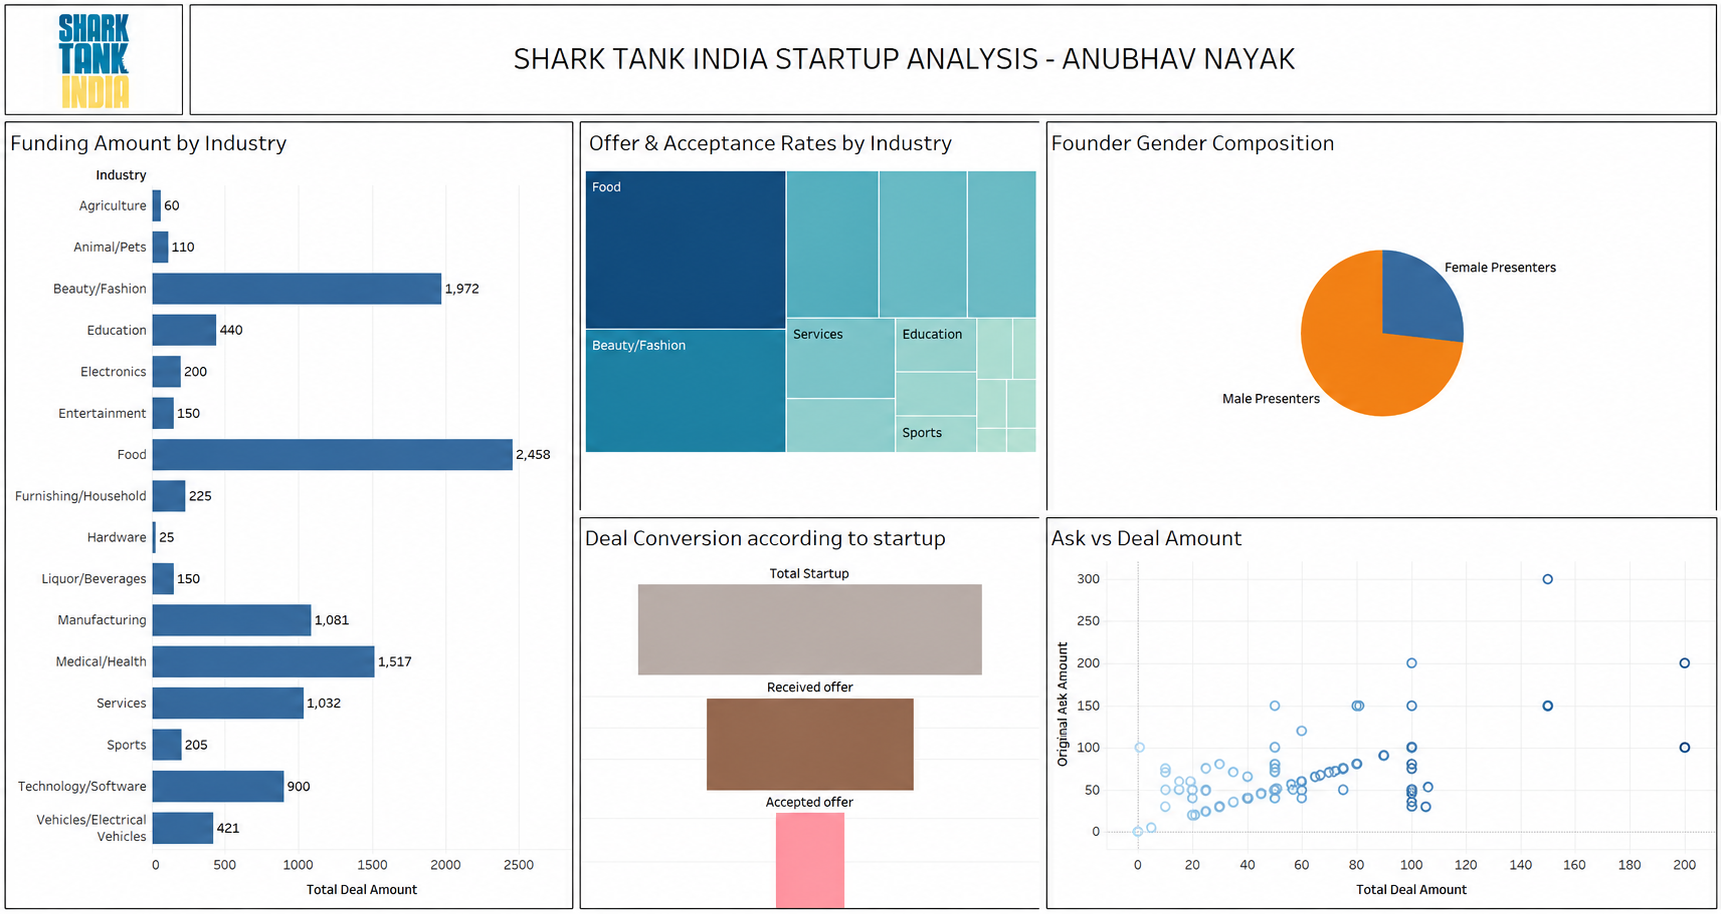

What the dashboard file says about the page in this screenshot:
{"tool":"tableau","page":{"name":"SHARK TANK","canvas":[1000,1000],"units":"permille","ordinal":0},"visuals":[{"type":"image","param":"C:/Users/Abhijeet Kuanr/Downloads/Elevate Labs/Projects/P-1/Shark_Tank_India.jpg","box":[4.8,9.7,105.4,127.1]},{"type":"text","box":[110.2,9.7,885.1,127.1]},{"type":"worksheet","title":"Funding Amount by Industry","mark":"Automatic","rows":["Industry"],"cols":["Total Deal Amount"],"box":[4.8,136.8,330.1,853.5]},{"type":"worksheet","title":" Offer & Acceptance Rates by Industry","mark":"Automatic","box":[334.9,136.8,268.9,426.7]},{"type":"worksheet","title":"Founder Gender Composition","mark":"Pie","box":[603.8,136.8,391.5,426.7]},{"type":"worksheet","title":"Deal Conversion according to startup","mark":"Automatic","rows":["Calculation_1336724667332628485","Calculation_1336724667332919302","Calculation_1336724667333103623"],"box":[334.9,563.5,268.9,426.8]},{"type":"worksheet","title":"Ask vs Deal Amount ","mark":"Automatic","rows":["Original Ask Amount"],"cols":["Total Deal Amount"],"box":[603.8,563.5,391.5,426.8]}]}

Visuals, with their boxes on the dashboard's canvas, which has no fixed pixel size, in thousandths of its width and height (x1, y1, x2, y2). These are canvas units, not pixel positions in the 1721x914 screenshot, which may show the page scaled, cropped or inside an application window:
image: {"x1": 5, "y1": 10, "x2": 110, "y2": 137}
text: {"x1": 110, "y1": 10, "x2": 995, "y2": 137}
"Funding Amount by Industry" worksheet: {"x1": 5, "y1": 137, "x2": 335, "y2": 990}
" Offer & Acceptance Rates by Industry" worksheet: {"x1": 335, "y1": 137, "x2": 604, "y2": 564}
"Founder Gender Composition" worksheet (Pie marks): {"x1": 604, "y1": 137, "x2": 995, "y2": 564}
"Deal Conversion according to startup" worksheet: {"x1": 335, "y1": 564, "x2": 604, "y2": 990}
"Ask vs Deal Amount " worksheet: {"x1": 604, "y1": 564, "x2": 995, "y2": 990}
